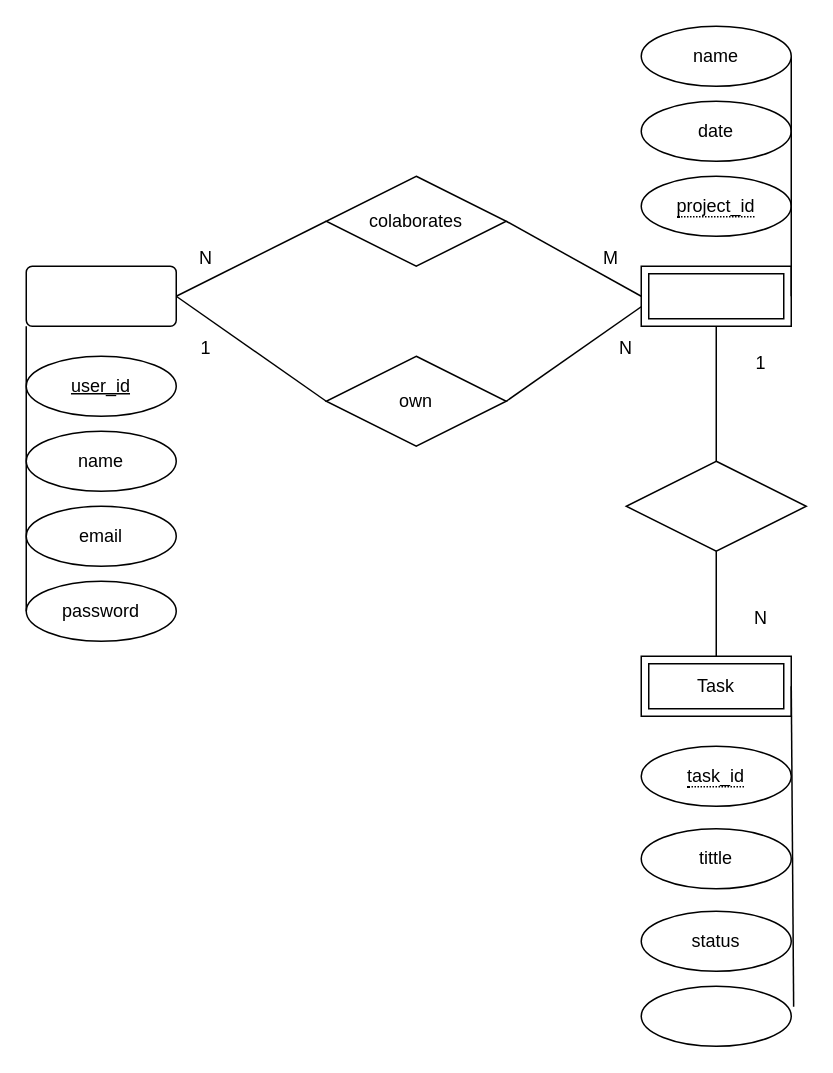
This 833x1073 diagram has some shape labels left out. The shapes that lost their labels are listed below. From the top down, each one's box as (x1, y1, x2, y2) in pixels, then its label:
(25, 265, 176, 326): User
(640, 265, 791, 326): Project
(625, 460, 806, 551): have
(640, 985, 791, 1046): description
